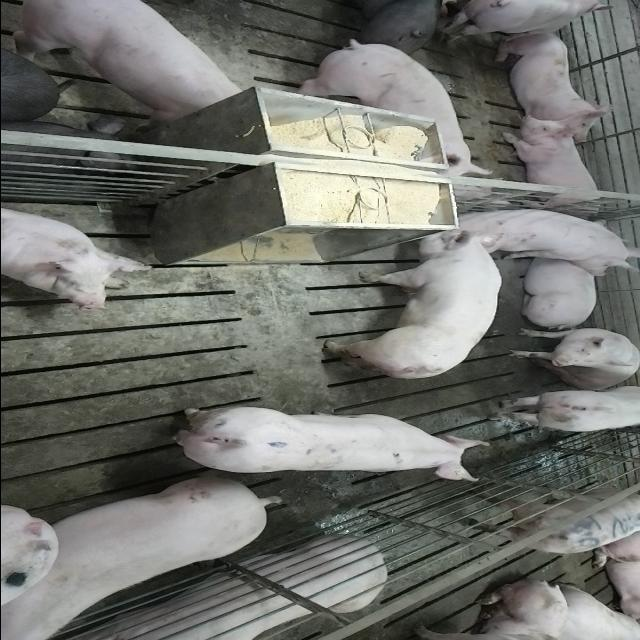Sitting: (451, 205, 640, 274), (505, 326, 639, 389)
Standing: (9, 2, 247, 124), (321, 223, 508, 377), (286, 34, 480, 178), (162, 405, 492, 482), (461, 482, 639, 556), (487, 386, 638, 434), (320, 0, 446, 53), (438, 0, 618, 35)
Sternal_lying: (63, 538, 391, 640), (0, 204, 153, 310), (494, 29, 622, 139), (500, 117, 610, 213), (514, 254, 602, 326)
